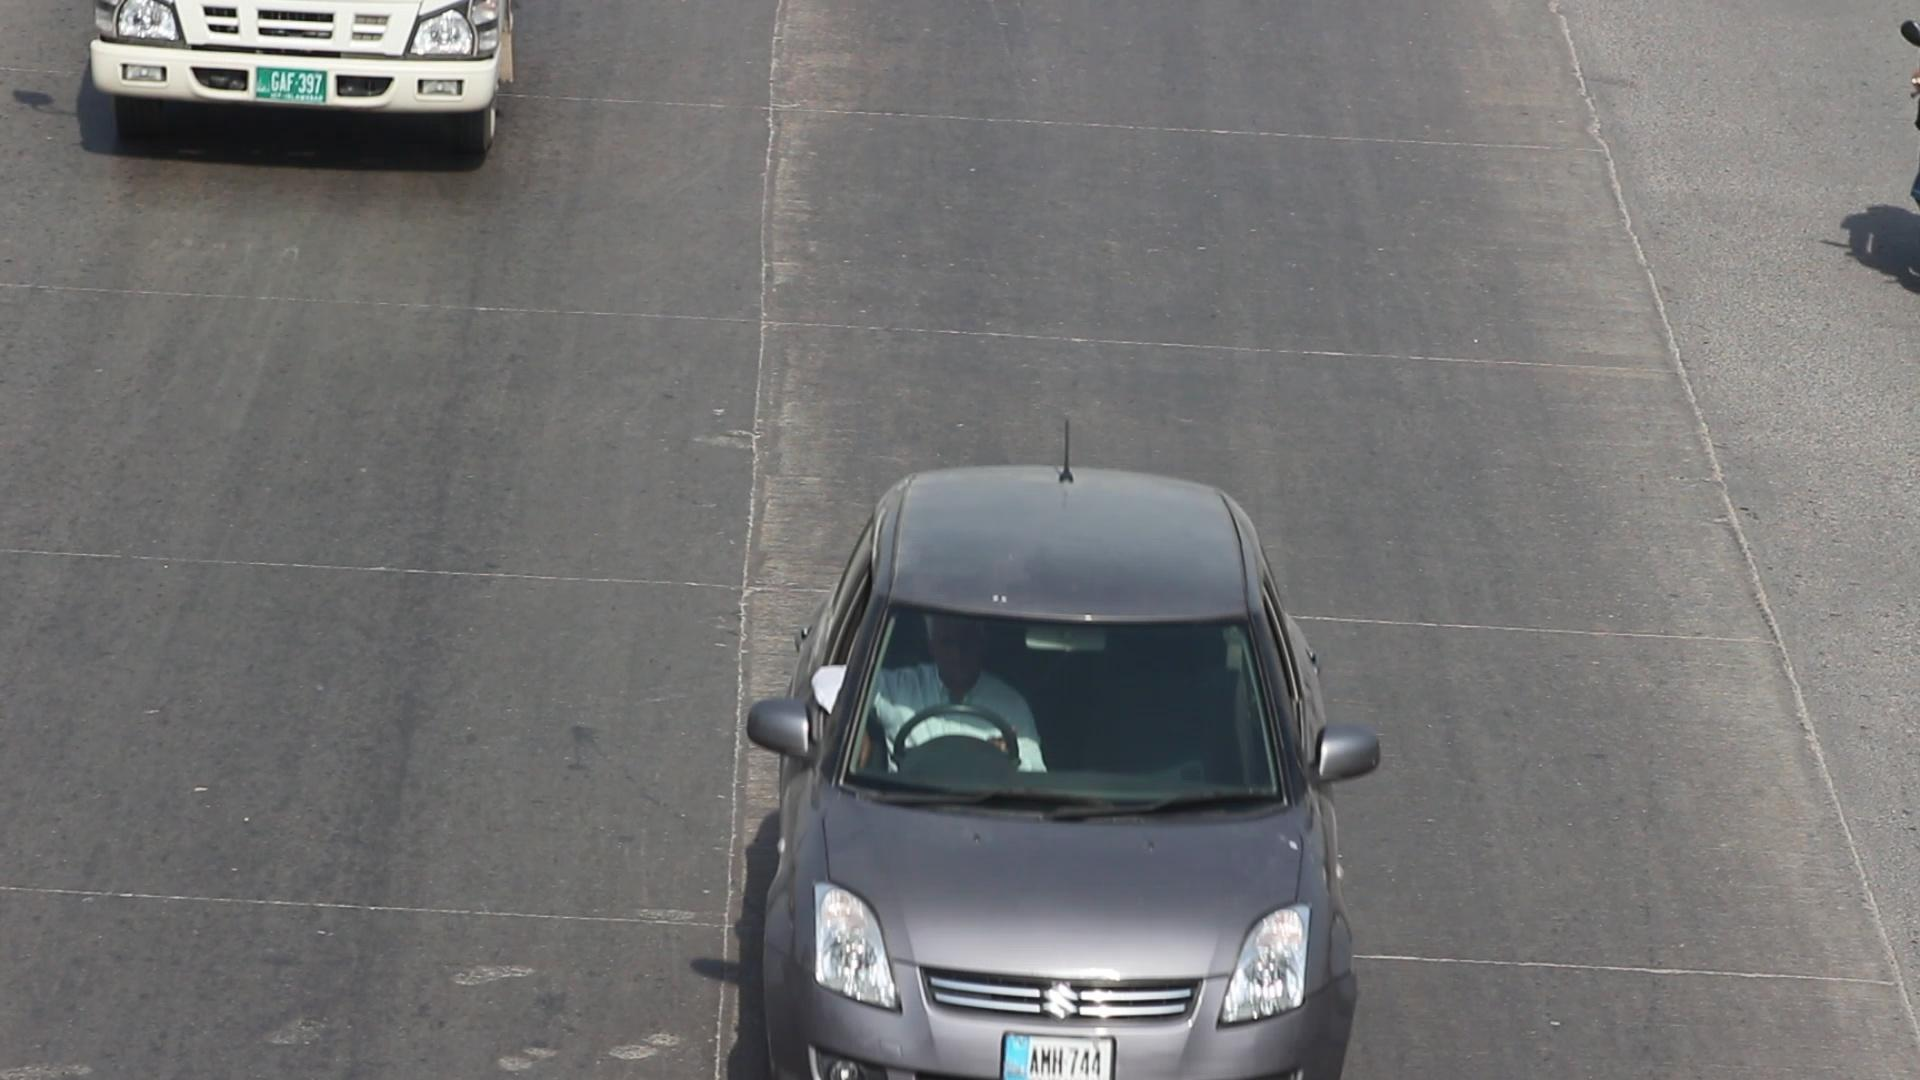windshield: (824, 574, 1331, 836)
